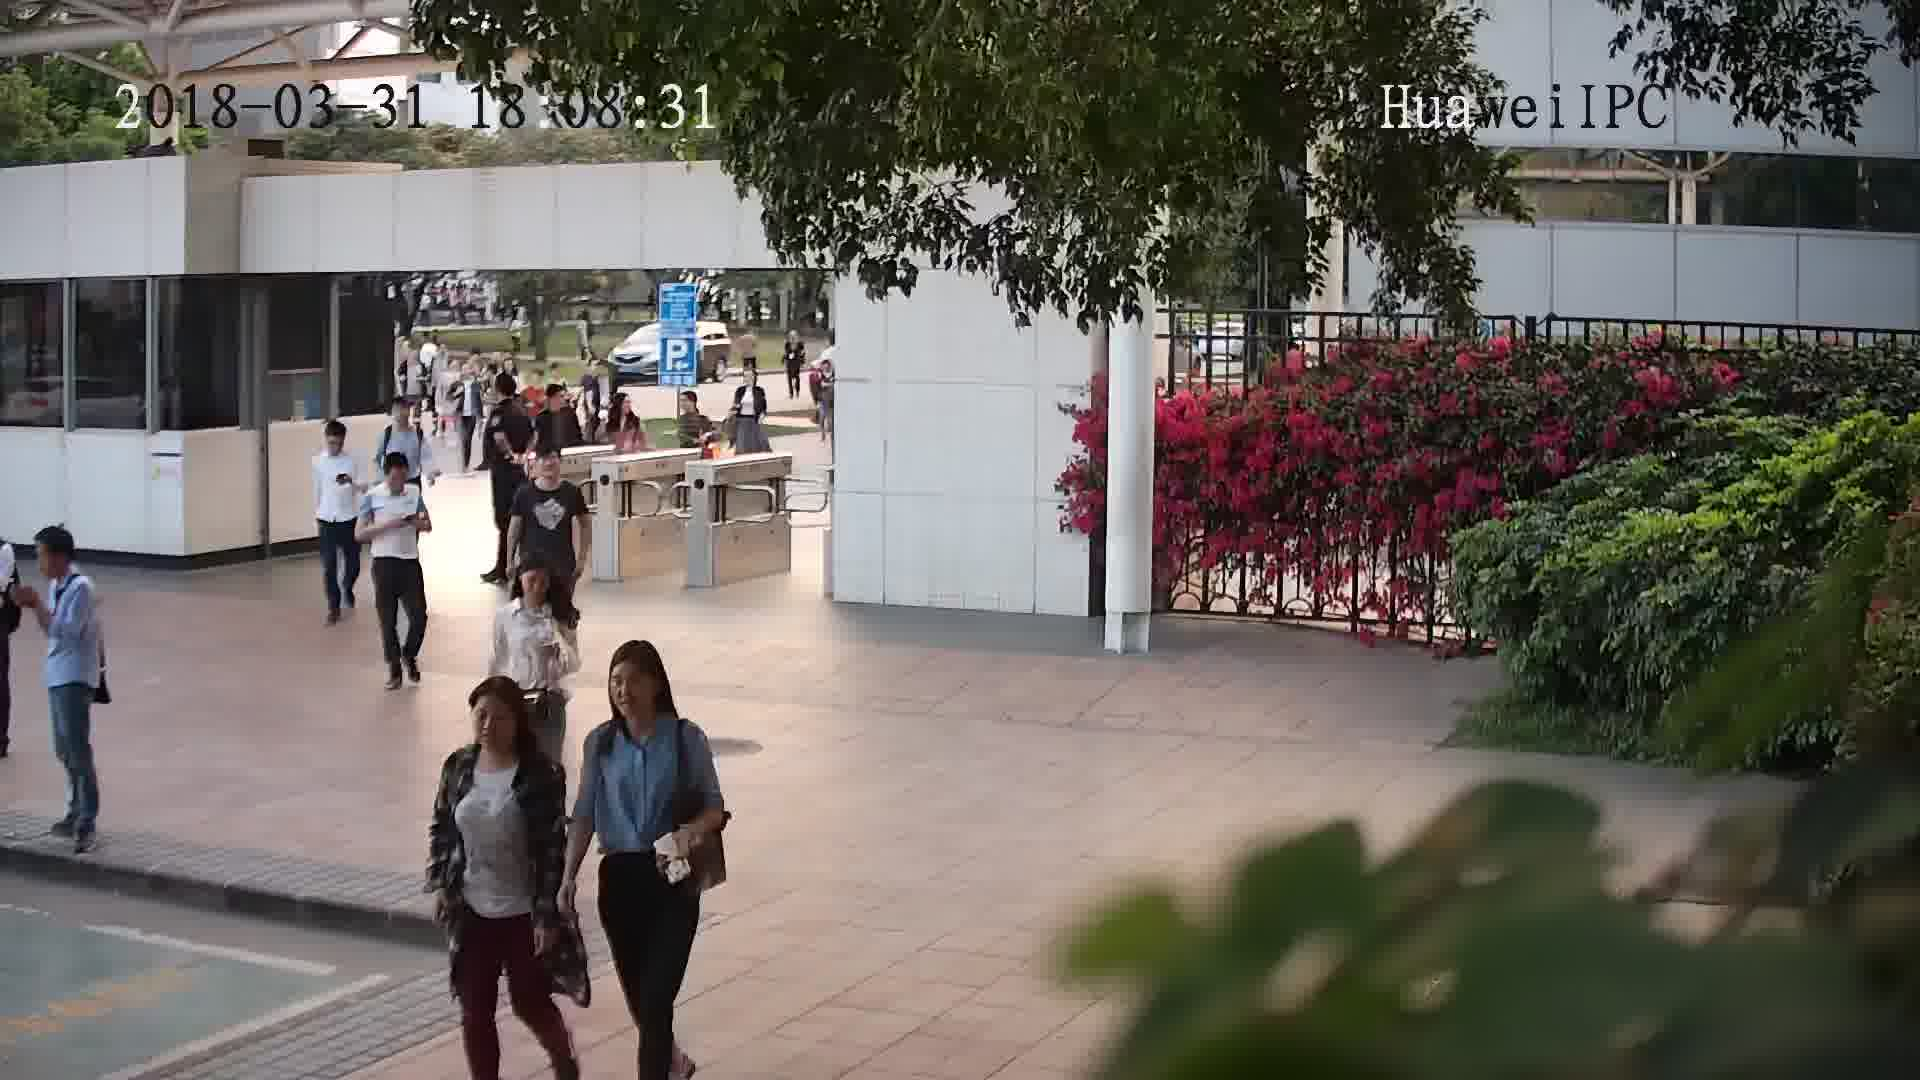face: (600, 655, 665, 720), (466, 691, 524, 749)
person: (581, 635, 709, 761), (435, 674, 557, 795), (491, 551, 578, 628), (34, 522, 97, 614), (515, 444, 583, 505), (361, 447, 425, 505), (375, 393, 428, 447), (307, 415, 357, 471), (535, 379, 580, 427), (488, 381, 533, 429), (605, 390, 647, 436), (672, 386, 712, 430), (732, 366, 769, 405), (449, 361, 483, 394)
